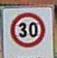limite 30: (9, 10, 46, 46)
